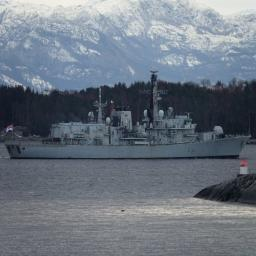Fragata: (6, 70, 253, 162)
